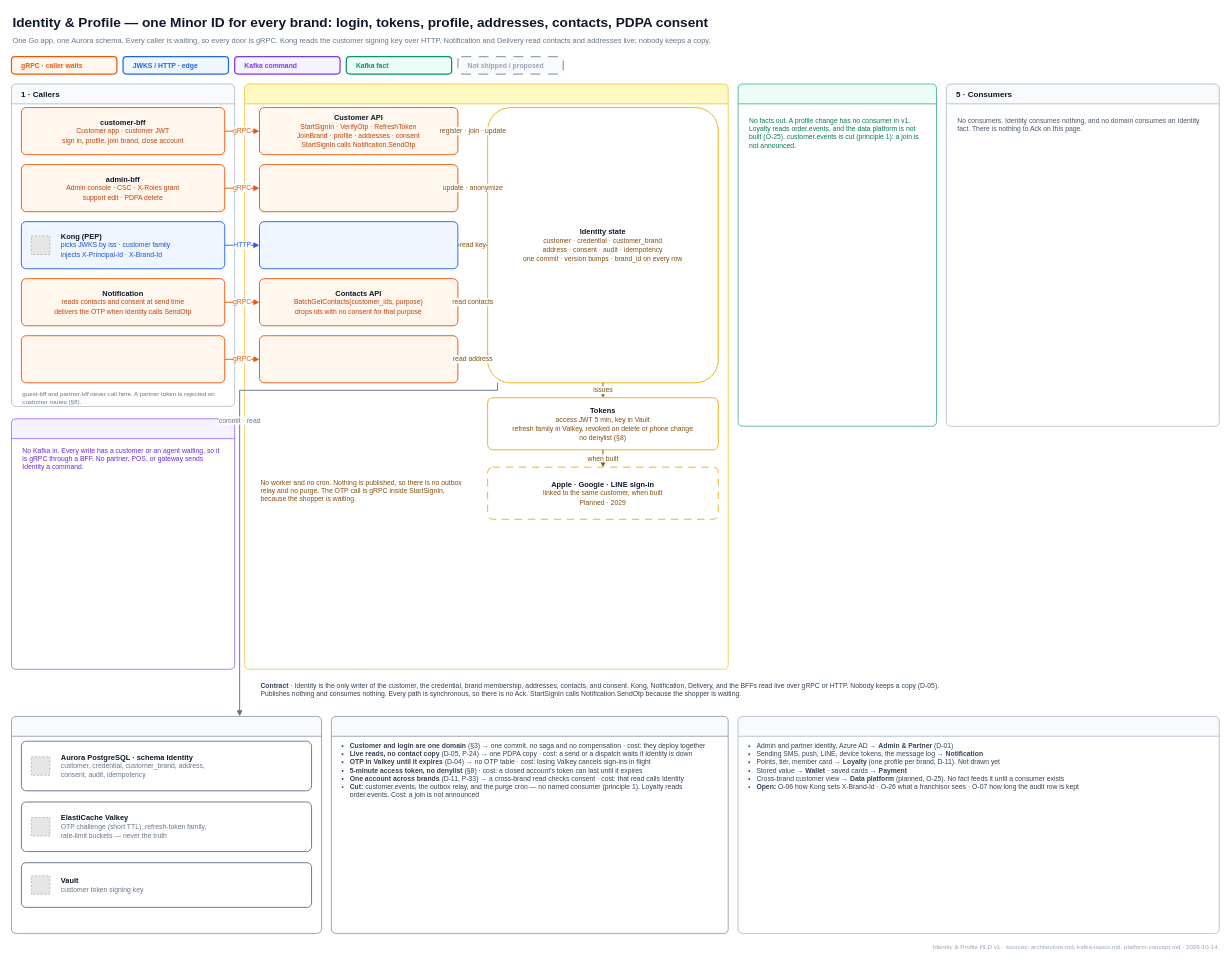
This 1230x962 diagram has some shape labels left out. Grey dashed boxes stand in for pictures. Here are the shapes that lost their labels. From the top down, the box of each, then its label:
(259, 164, 458, 212): Admin API UpdateProfile · DeleteCustomer checks the grant in x-roles
(259, 221, 458, 269): JWKS endpoint public half of the customer signing key
(737, 83, 937, 426): 4 · Facts out
(21, 335, 225, 383): Delivery reads the drop-off address when the rider job is created
(259, 335, 458, 383): Address API GetAddress(customer_id, address_id)
(244, 83, 728, 669): 3 · Engine · Go · identity app (mode: api)
(11, 418, 235, 669): 2 · Kafka in
(11, 716, 321, 933): 6 · Data
(331, 716, 728, 933): Decisions · what it costs
(737, 716, 1219, 933): Not this domain
